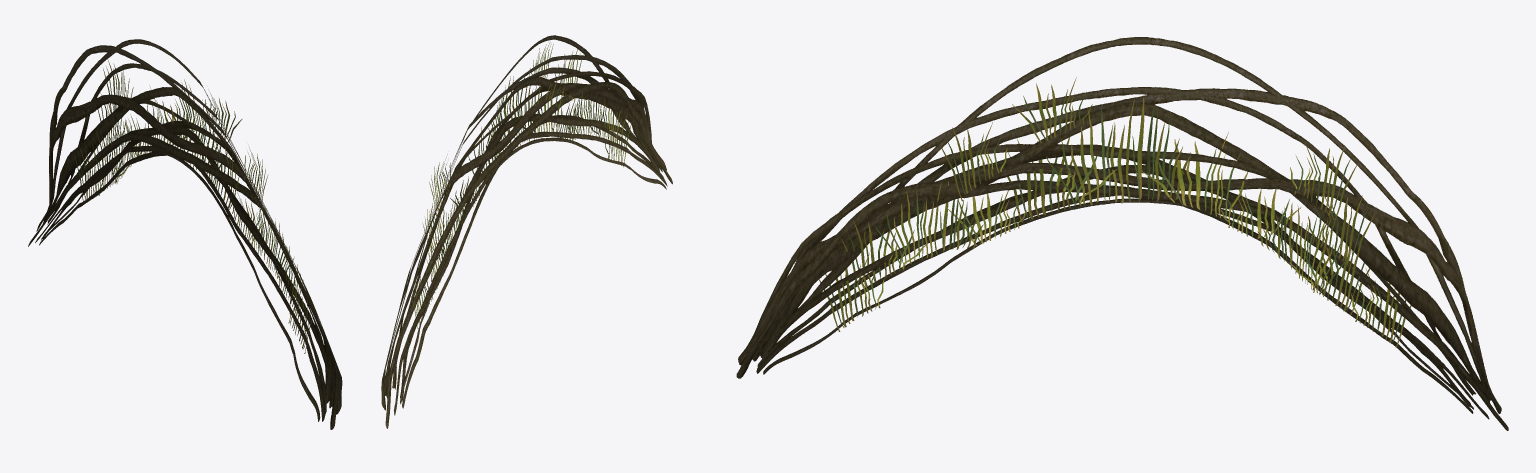
Rendered from SM_Vines_02a.fbx.
3 renders of one model, left to right at view 1: azimuth 30°, elevation 25°; view 2: azimuth 150°, elevation 25°; view 3: azimuth 270°, elevation 25°, orthographic. The views are drawn at different scales.
Visible parts, largest first — view 1: SM_Vines_02a_LOD0; view 2: SM_Vines_02a_LOD0; view 3: SM_Vines_02a_LOD0.
Part boxes in pixels (x1,y1,x2,y2): SM_Vines_02a_LOD0: (28,39,342,429); SM_Vines_02a_LOD0: (381,35,672,428); SM_Vines_02a_LOD0: (736,37,1508,430).
Bounding box in the file's own units: 38.35 × 568 × 343.
